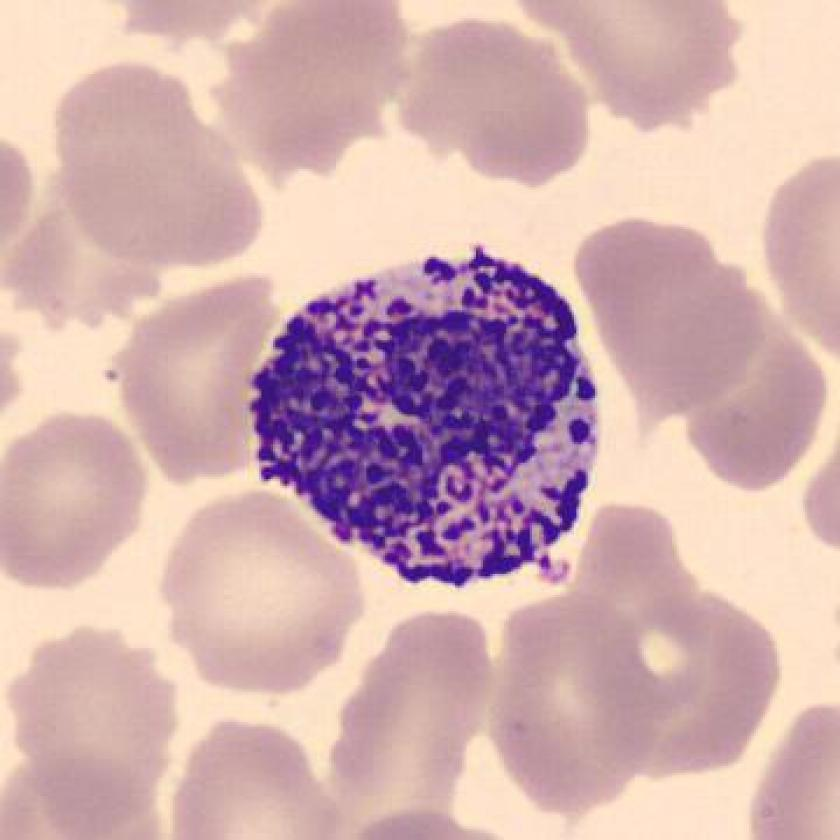basophil: (246, 235, 619, 584)
